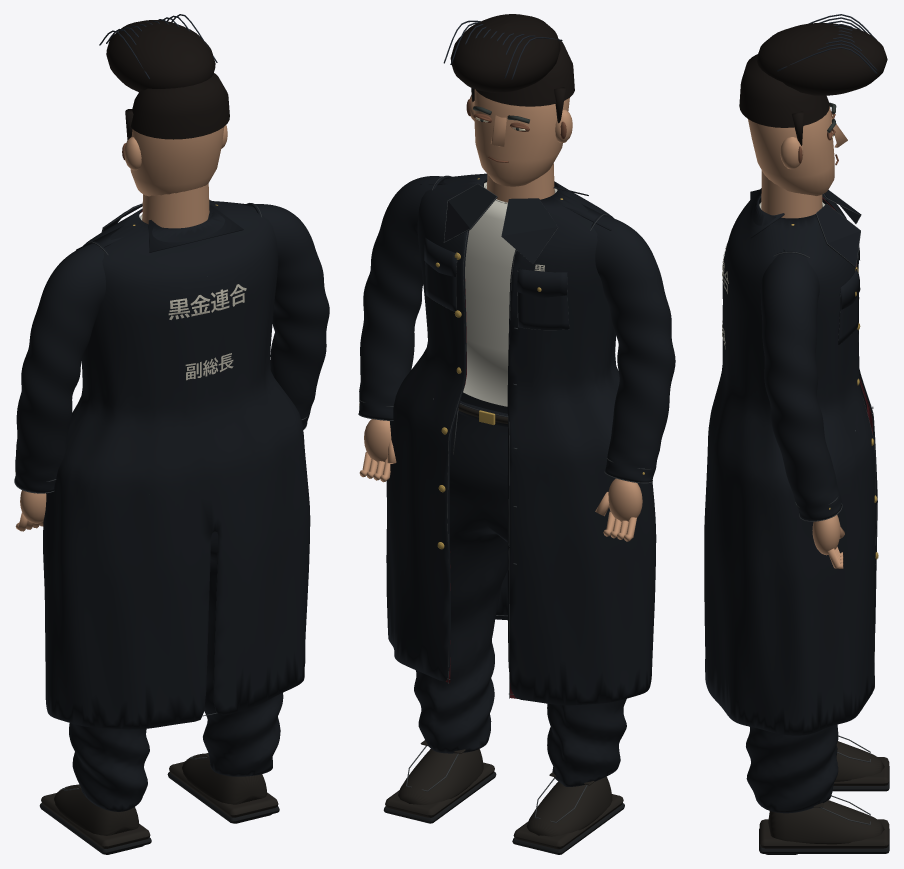
3 views of the same model, side by side, from view 1: azimuth 30°, elevation 25°; view 2: azimuth 150°, elevation 25°; view 3: azimuth 270°, elevation 25° (orthographic).
Parts seen in each view (by area): view 1: YG_V2_Tailored coat shell, YG_V2_Set in shaped sleeve, YG_V2_Sewn high waist bontan, YG_V2_Set in shaped sleeve.001, YG_Pompadour_ClothingV2, YG_SlickHair_ClothingV2, YG_Face_ClothingV2, YG_V2_Shaped loafer leather.001, YG_V2_Shaped loafer leather, YG_Neck_ClothingV2, YG_V2_Loafer welt.001, YG_V2_Loafer welt (+5 smaller); view 2: YG_V2_Tailored coat shell, YG_V2_Sewn high waist bontan, YG_V2_Set in shaped sleeve, YG_V2_Set in shaped sleeve.001, YG_V2_Cotton tee beneath coat, YG_Pompadour_ClothingV2, YG_Face_ClothingV2, YG_V2_Shaped loafer leather, YG_V2_Shaped loafer leather.001, YG_V2_Turned shirt collar, YG_SlickHair_ClothingV2, YG_V2_Chest patch pocket (+11 smaller); view 3: YG_V2_Tailored coat shell, YG_V2_Set in shaped sleeve.001, YG_Pompadour_ClothingV2, YG_V2_Sewn high waist bontan, YG_Face_ClothingV2, YG_SlickHair_ClothingV2, YG_V2_Shaped loafer leather.001, YG_Neck_ClothingV2, YG_V2_Turned shirt collar.001, YG_V2_Loafer welt.001, YG_V2_Shaped loafer leather, YG_V2_Relaxed palm.001 (+6 smaller).
Part boxes in pixels (<box>): YG_V2_Tailored coat shell: <box>43,201,310,729</box>; YG_V2_Set in shaped sleeve: <box>15,241,107,492</box>; YG_V2_Sewn high waist bontan: <box>69,531,283,811</box>; YG_V2_Set in shaped sleeve.001: <box>247,203,329,429</box>; YG_Pompadour_ClothingV2: <box>106,20,215,91</box>; YG_SlickHair_ClothingV2: <box>130,73,229,139</box>; YG_Face_ClothingV2: <box>130,127,224,196</box>; YG_V2_Shaped loafer leather.001: <box>182,753,266,804</box>; YG_V2_Shaped loafer leather: <box>54,784,139,835</box>; YG_Neck_ClothingV2: <box>142,183,209,228</box>; YG_V2_Loafer welt.001: <box>169,761,278,817</box>; YG_V2_Loafer welt: <box>41,793,150,848</box>; YG_V2_Tailored coat shell: <box>386,173,656,705</box>; YG_V2_Sewn high waist bontan: <box>414,392,626,786</box>; YG_V2_Set in shaped sleeve: <box>591,213,675,482</box>; YG_V2_Set in shaped sleeve.001: <box>359,176,451,420</box>; YG_V2_Cotton tee beneath coat: <box>463,182,557,406</box>; YG_Pompadour_ClothingV2: <box>450,14,560,92</box>; YG_Face_ClothingV2: <box>474,89,569,186</box>; YG_V2_Shaped loafer leather: <box>526,776,612,836</box>; YG_V2_Shaped loafer leather.001: <box>398,749,483,804</box>; YG_V2_Turned shirt collar: <box>501,198,557,263</box>; YG_SlickHair_ClothingV2: <box>476,40,574,106</box>; YG_V2_Chest patch pocket: <box>518,277,569,329</box>; YG_V2_Tailored coat shell: <box>704,188,877,735</box>; YG_V2_Set in shaped sleeve.001: <box>760,251,841,520</box>; YG_Pompadour_ClothingV2: <box>756,23,887,95</box>; YG_V2_Sewn high waist bontan: <box>746,724,838,813</box>; YG_Face_ClothingV2: <box>748,106,834,195</box>; YG_SlickHair_ClothingV2: <box>739,54,829,127</box>; YG_V2_Shaped loafer leather.001: <box>768,800,884,844</box>; YG_Neck_ClothingV2: <box>761,170,822,218</box>; YG_V2_Turned shirt collar.001: <box>815,204,860,267</box>; YG_V2_Loafer welt.001: <box>759,819,889,848</box>; YG_V2_Shaped loafer leather: <box>835,741,884,781</box>; YG_V2_Relaxed palm.001: <box>812,515,840,555</box>.
Bounding box in the file's own units: 0.7204 × 1.78 × 0.3819.
